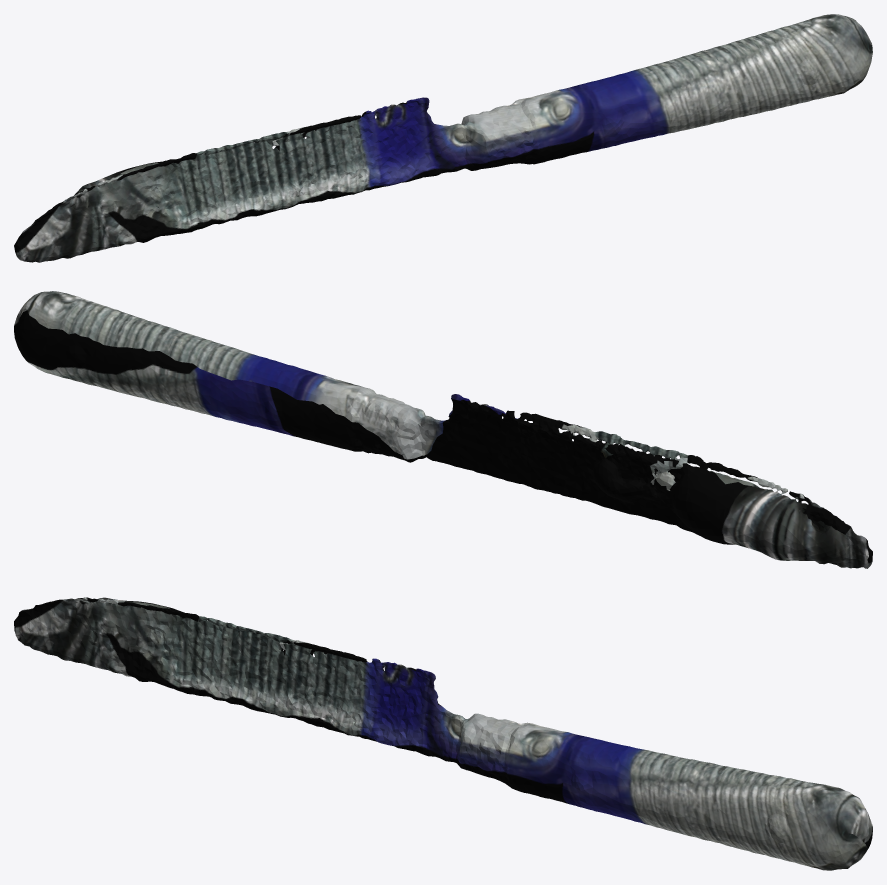
3 renders of one model, top to bottom at view 1: azimuth 30°, elevation 25°; view 2: azimuth 150°, elevation 25°; view 3: azimuth 330°, elevation 25°, orthographic. The views are drawn at different scales.
Parts seen in each view (by area): view 1: node; view 2: node; view 3: node.
Part boxes in pixels (bbox=[...]): node: bbox=[14, 14, 872, 262]; node: bbox=[14, 291, 872, 568]; node: bbox=[14, 597, 872, 870].
Size of the model in its own units: 0.2148 by 0.0206 by 0.0226.
